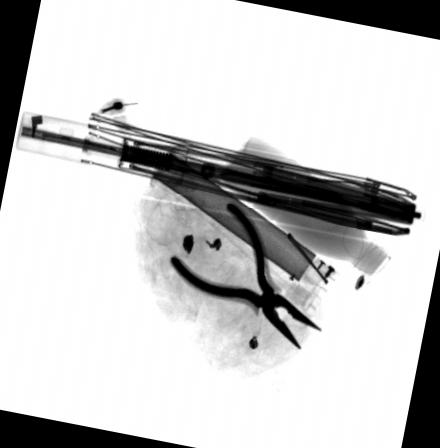Pliers: (165, 196, 322, 349)
